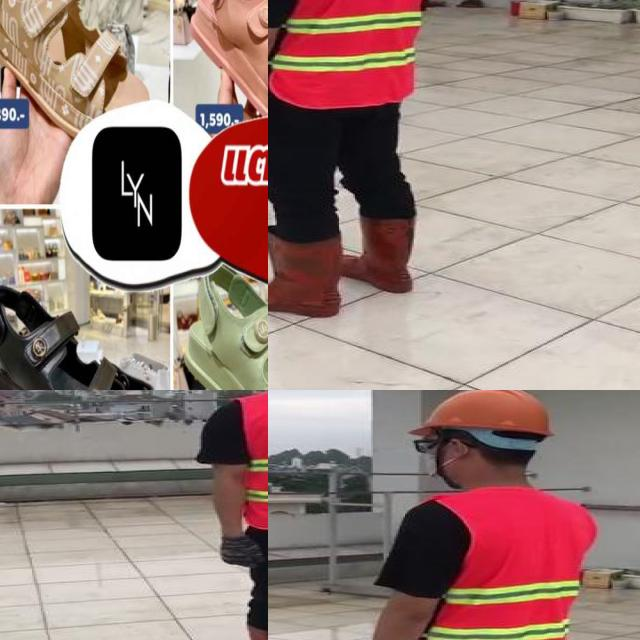Sandals: (0, 272, 162, 390)
boots: (268, 226, 346, 319), (340, 216, 422, 295)
hand_glove: (217, 537, 267, 569)
head_helmet: (405, 390, 553, 440)
person: (331, 390, 608, 640), (268, 0, 446, 320), (188, 390, 268, 640)
vest: (415, 489, 597, 640), (268, 0, 442, 107), (233, 394, 268, 529)
